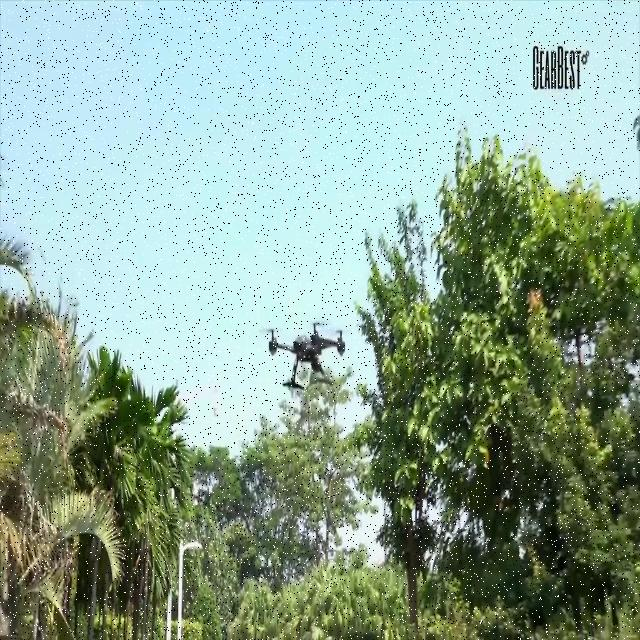UAV: (263, 322, 345, 390)
